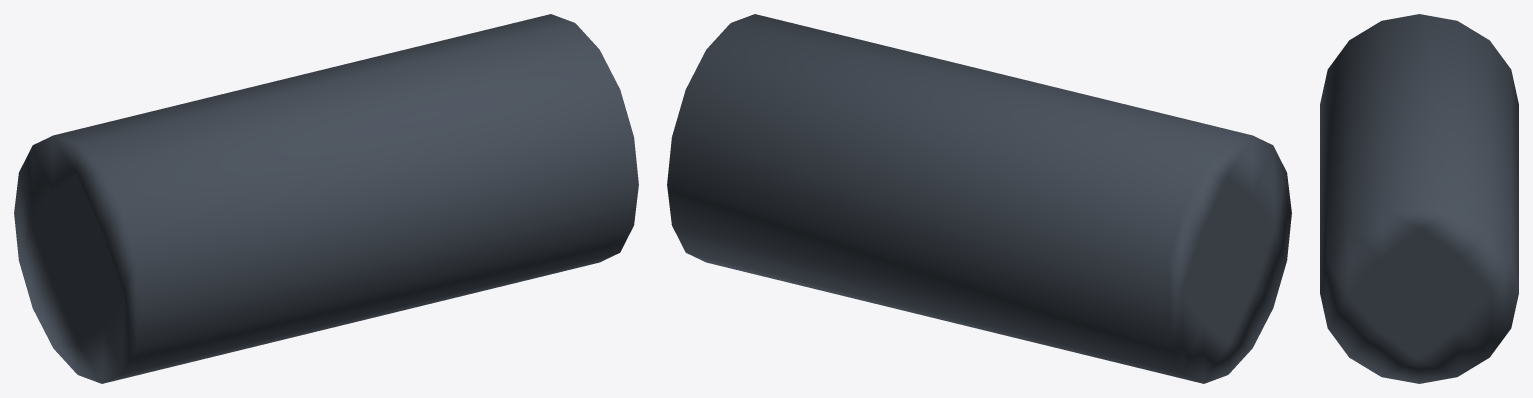
Rendered from tubeConnector.fbx.
3 views of the same model, side by side, from view 1: azimuth 30°, elevation 25°; view 2: azimuth 150°, elevation 25°; view 3: azimuth 270°, elevation 25° (orthographic). The views are drawn at different scales.
Visible parts, largest first — view 1: tubeConnector; view 2: tubeConnector; view 3: tubeConnector.
Part boxes in pixels (x1,y1,x2,y2): tubeConnector: (14,14,638,383); tubeConnector: (667,14,1291,383); tubeConnector: (1320,14,1518,383).
Size of the model in its own units: 139 by 314 by 139.
